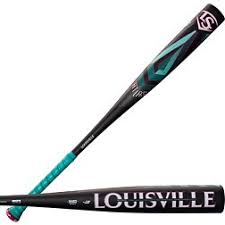baseball bat: (5, 4, 224, 222), (1, 184, 224, 214)
